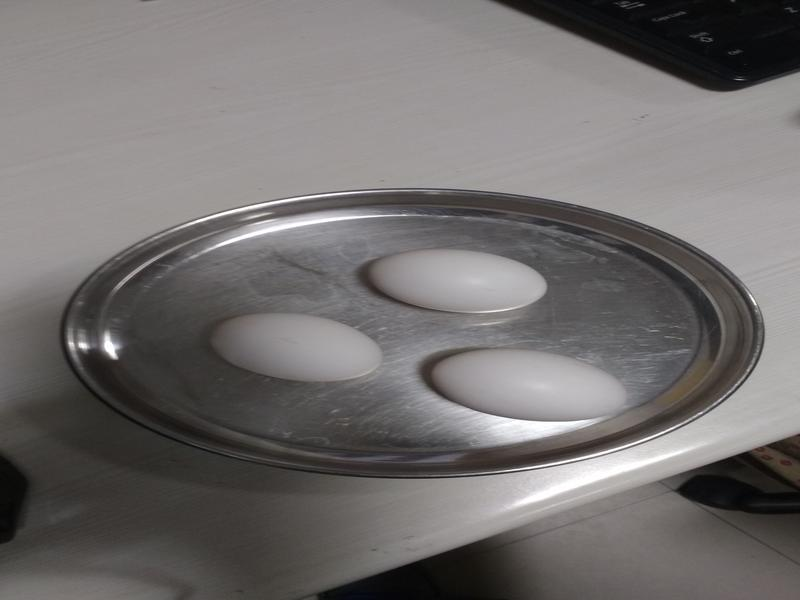egg: (434, 340, 621, 426)
